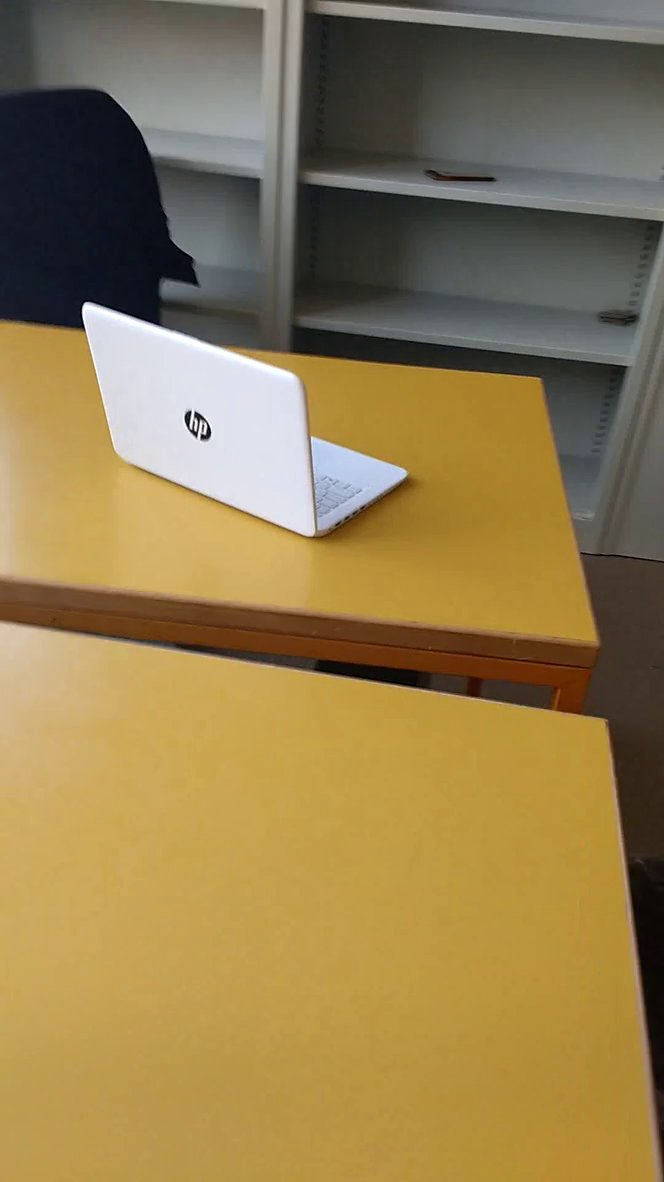laptop: (76, 292, 418, 548)
